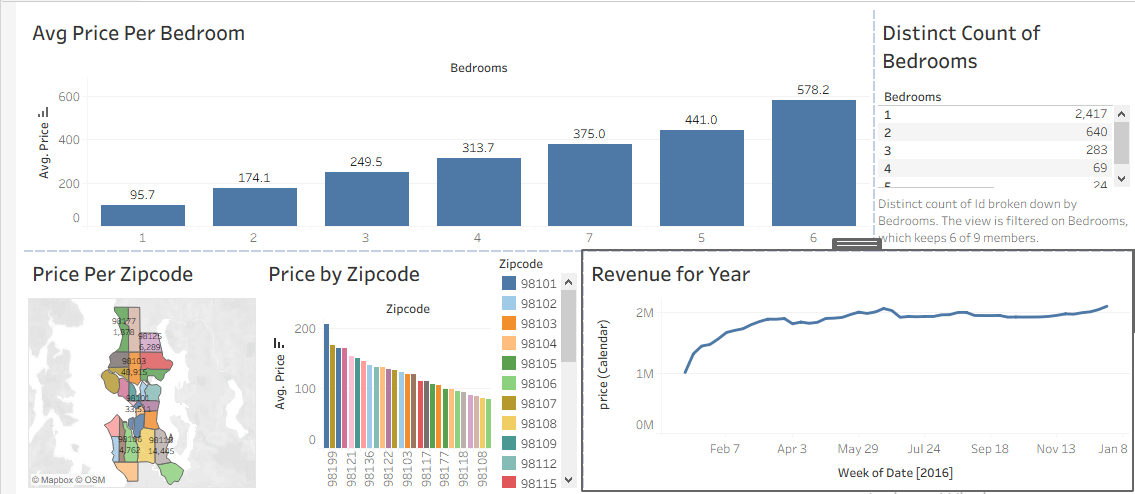

The page's visual inventory and layout, read from the dashboard file:
{"tool":"tableau","page":{"name":"Dashboard 1","canvas":[1000,1000],"units":"permille","ordinal":0},"visuals":[{"type":"worksheet","title":"Sheet 4","mark":"Automatic","rows":["price"],"cols":["bedrooms"],"box":[6.9,14.5,755,485.5]},{"type":"worksheet","title":"Sheet 5","mark":"Automatic","rows":["bedrooms"],"box":[761.9,14.5,231.2,485.5]},{"type":"worksheet","title":"Sheet 2","mark":"Multipolygon","box":[6.9,500,210.3,485.5]},{"type":"worksheet","title":"Sheet 1","mark":"Automatic","rows":["price"],"cols":["zipcode"],"box":[217.2,500,210.3,485.5]},{"type":"legend","title":"Sheet 1","param":"[federated.0xtw64e0shex8211ppac30u7bpgr].[none:zipcode:ok]","box":[427.6,500,76.2,485.5]},{"type":"worksheet","title":"Sheet 3","mark":"Automatic","rows":["price (Calendar)"],"cols":["date"],"box":[503.8,500,489.3,485.5]}]}

Visuals, with their boxes on the dashboard's canvas, which has no fixed pixel size, in thousandths of its width and height (x1, y1, x2, y2). These are canvas units, not pixel positions in the 1135x494 screenshot, which may show the page scaled, cropped or inside an application window:
"Sheet 4" worksheet: (7, 14, 762, 500)
"Sheet 5" worksheet: (762, 14, 993, 500)
"Sheet 2" worksheet (Multipolygon marks): (7, 500, 217, 986)
"Sheet 1" worksheet: (217, 500, 428, 986)
"Sheet 1" legend: (428, 500, 504, 986)
"Sheet 3" worksheet: (504, 500, 993, 986)
